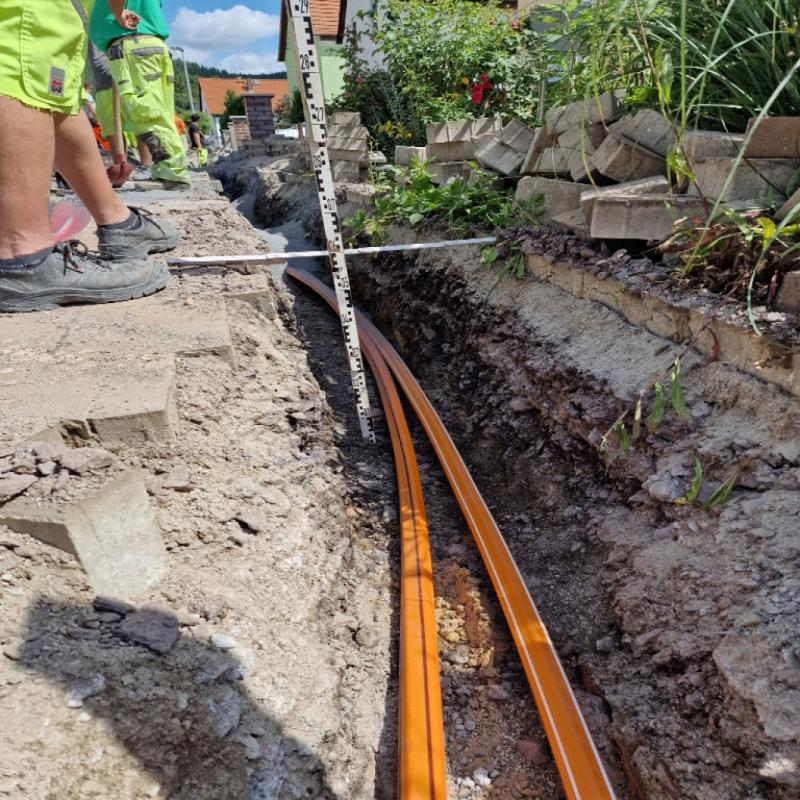Orang-Speednetrohrchen: (355, 312, 615, 800)
